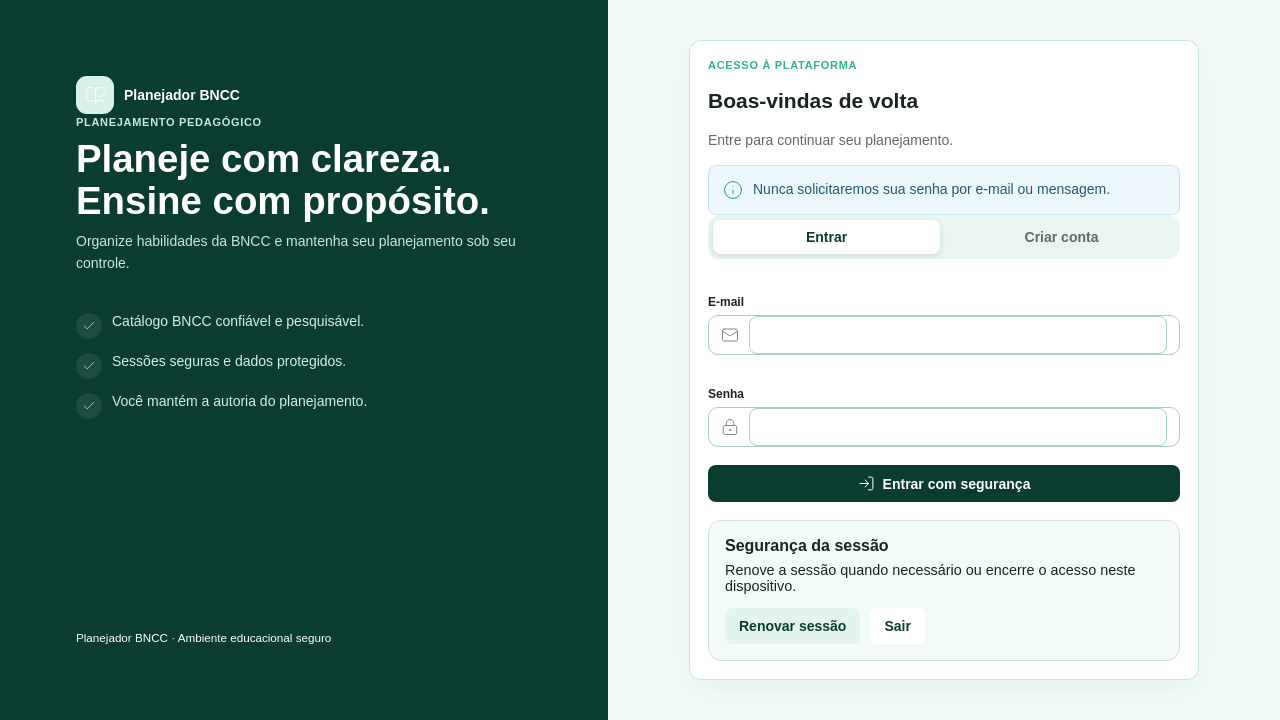
Test: tela de autenticação › informa nova autenticação necessária quando a renovação falha
Click the button "Renovar sessão". click: (793, 626)
box: [725,608,860,644]
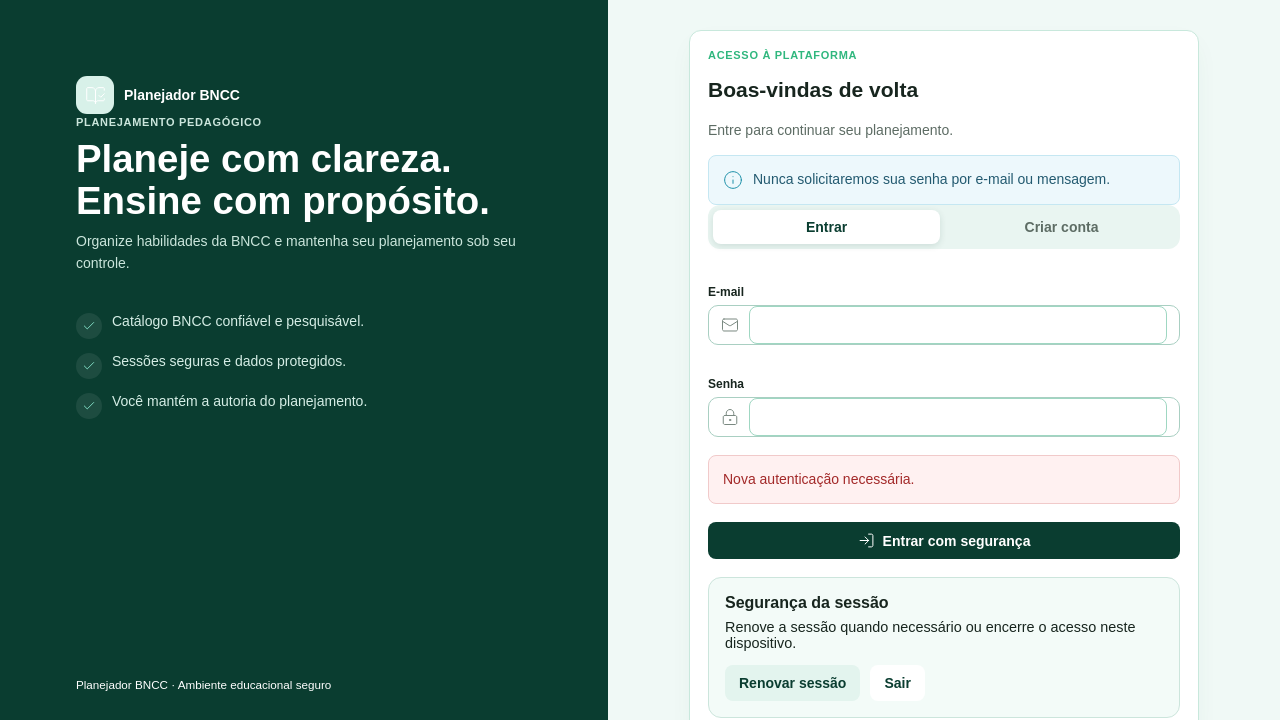
Expected: the message "Nova autenticação necessária." is shown, [708,455,1180,504]
